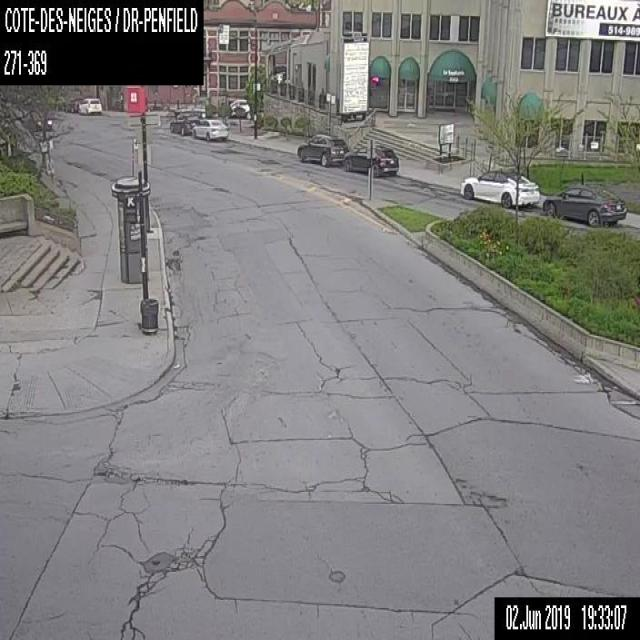vehicle: (541, 181, 626, 227), (457, 165, 538, 208), (342, 144, 398, 176), (296, 132, 348, 166), (192, 118, 228, 140), (168, 112, 200, 134), (21, 109, 51, 129), (223, 98, 251, 118), (78, 96, 102, 115), (66, 96, 83, 112)
